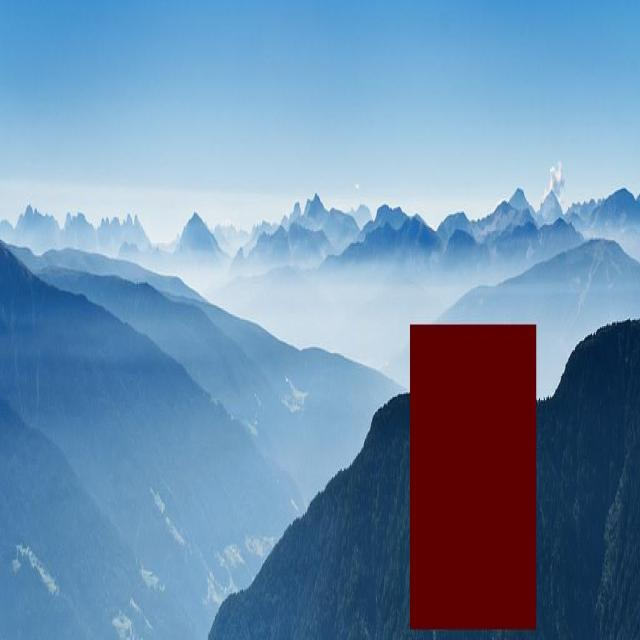RedSquare: (402, 312, 542, 636)
